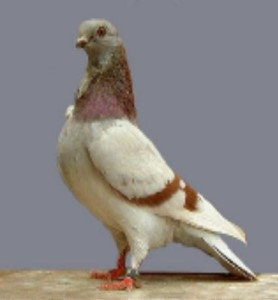pigeon: (54, 16, 260, 290)
